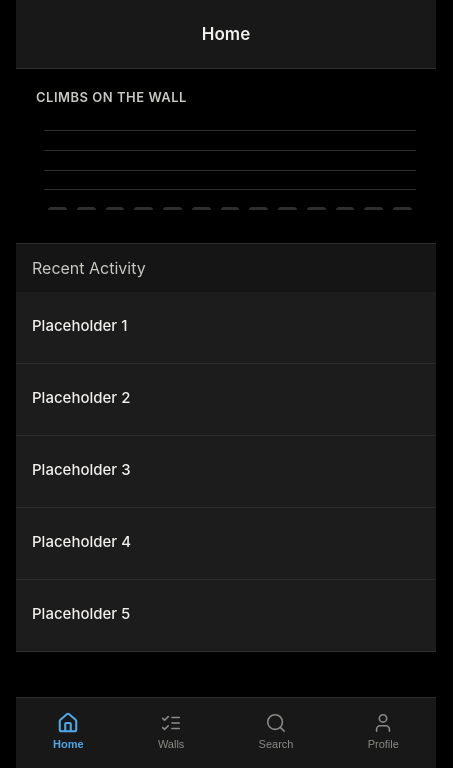
Scenario: App() — optimistic comment delete › removes the comment immediately, before the DELETE resolves
Click the button "Walls".
click(171, 731)  # box [150, 708, 192, 754]
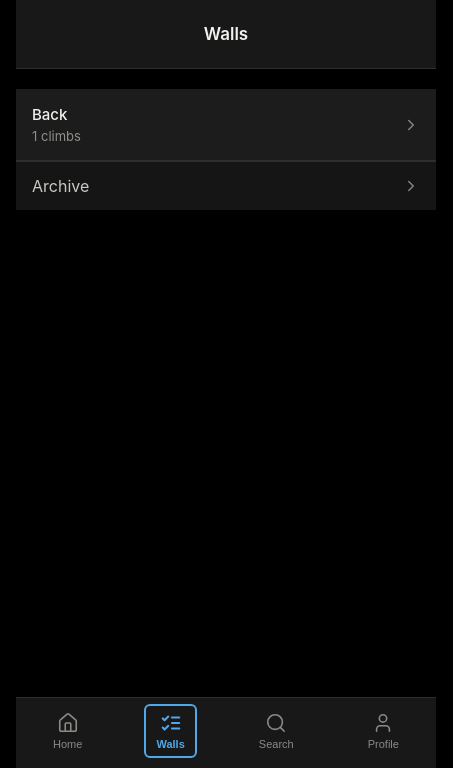
Click the button "Back 1 climbs".
click(50, 114)  # box [16, 89, 436, 161]
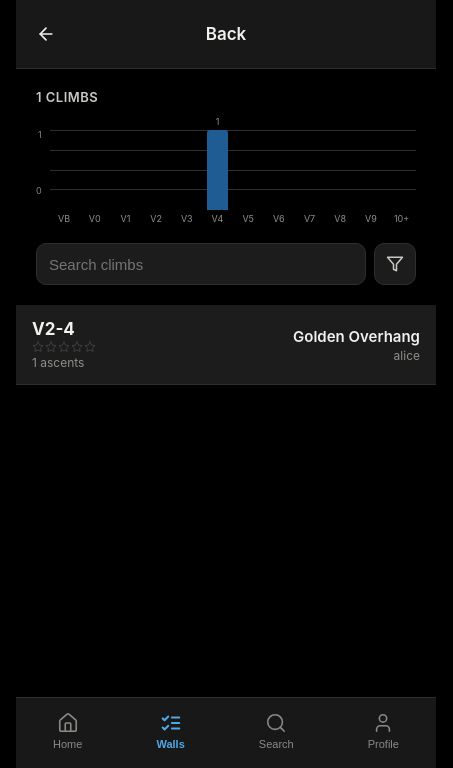
Click the button "V2-4 1 ascents Golden Overhang alice".
click(53, 329)  # box [16, 305, 436, 385]
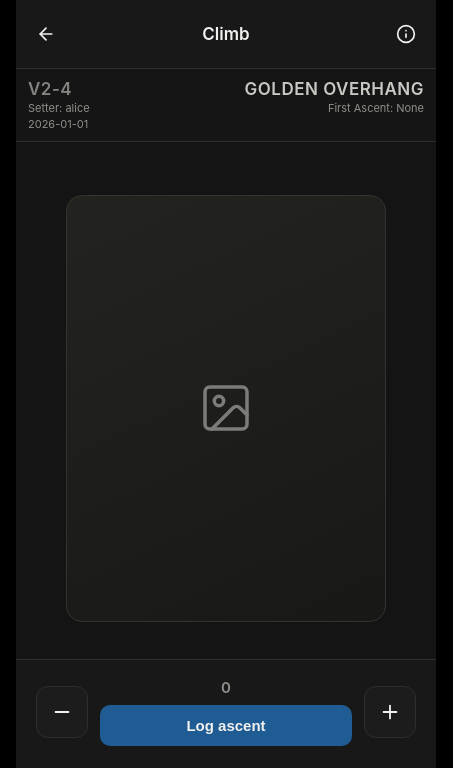
Click the button named "Climb info".
click(406, 34)  # box [388, 16, 424, 52]
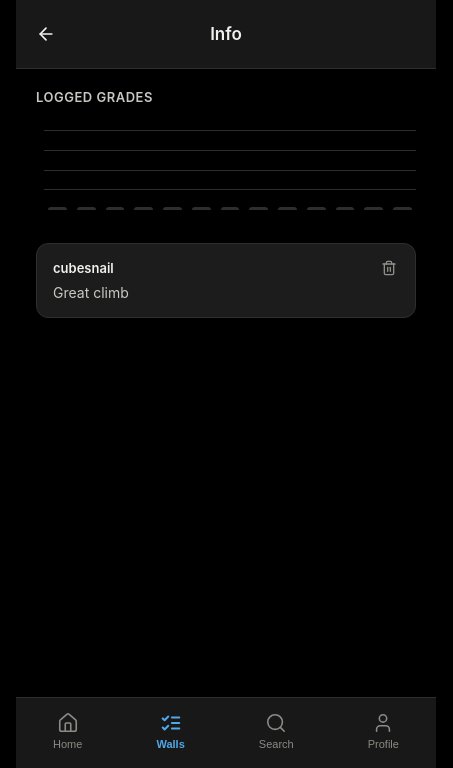
expect the text "Great climb" is shown: met, box [53, 284, 129, 301]
Click the button named "Delete comment".
click(389, 268)  # box [379, 258, 399, 278]
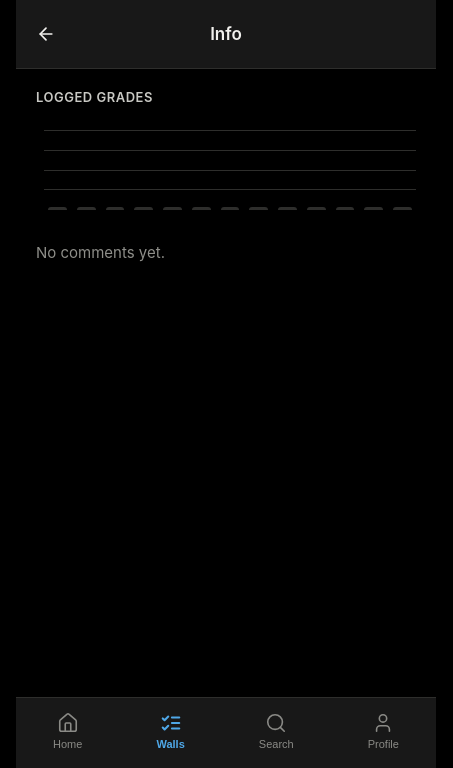
expect the text "Great climb" is gone: met
